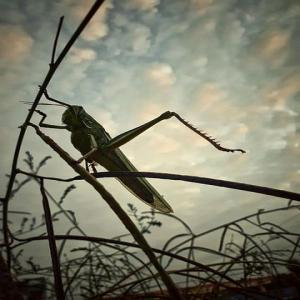locust: (33, 77, 239, 215)
